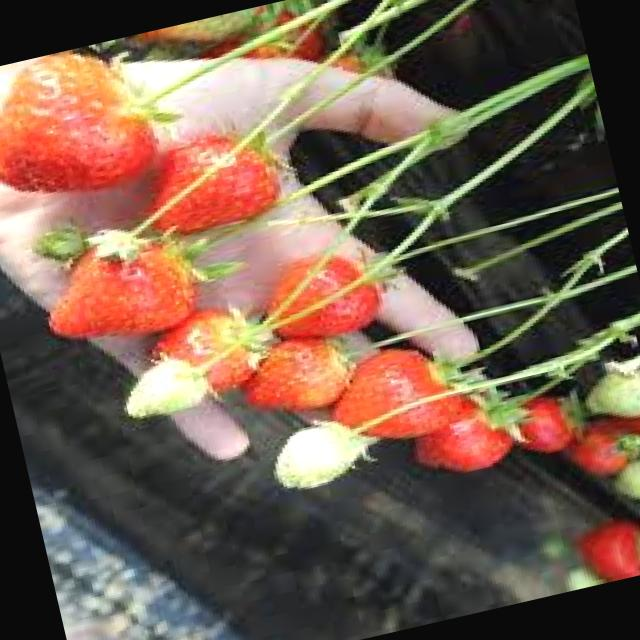strawberry: (0, 34, 179, 220), (29, 213, 248, 353), (134, 111, 292, 244), (254, 232, 400, 344), (324, 334, 456, 450), (233, 334, 359, 424)
